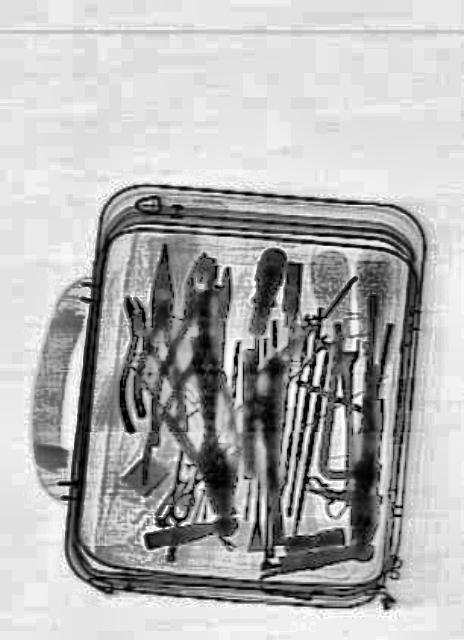Pliers: (139, 252, 265, 504), (148, 248, 246, 434), (101, 287, 181, 431), (128, 241, 190, 419)
